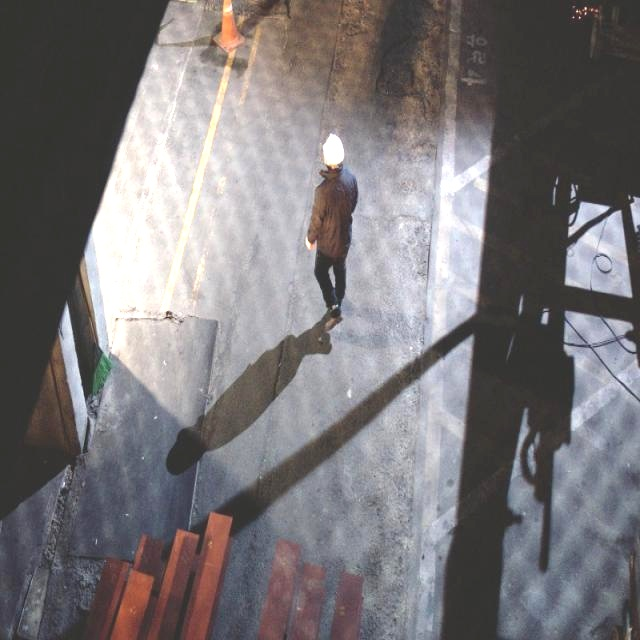Con_Casco: (321, 132, 346, 171)
Sin_Chaleco: (316, 174, 356, 255)
